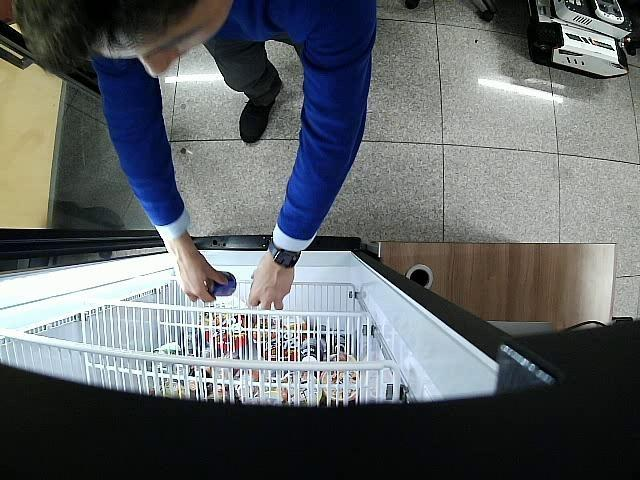14_welchsGrape: (208, 270, 236, 296)
